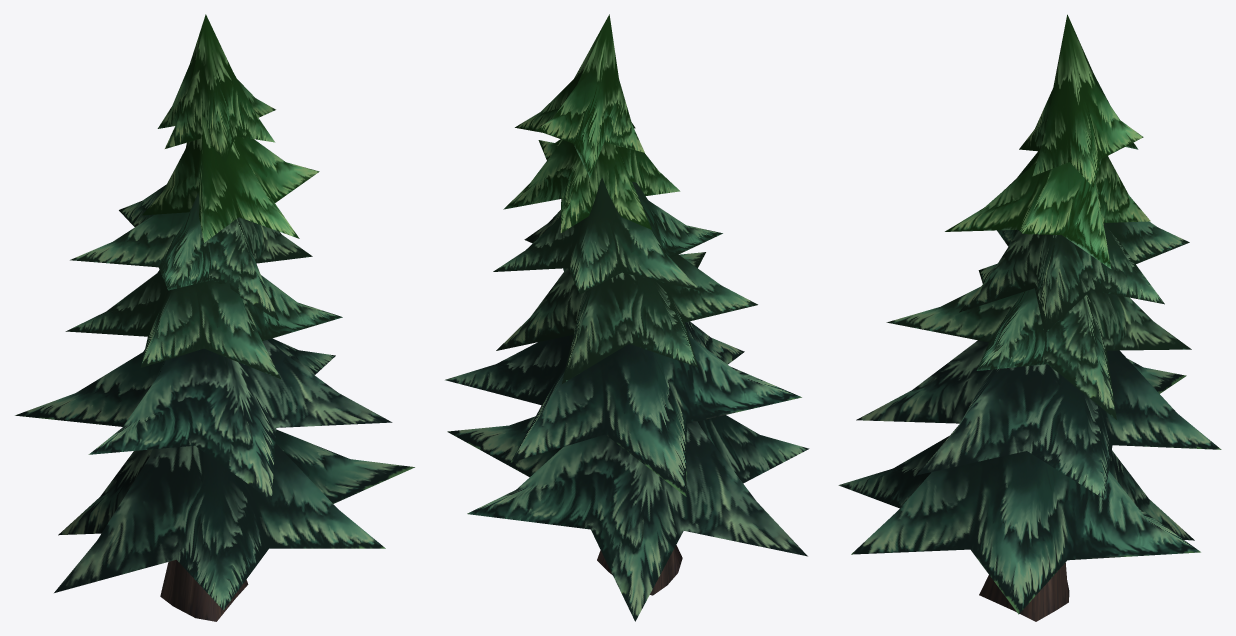
Rendered from Nspruce_3.fbx.
The picture shows the model from 3 angles, left to right: view 1: azimuth 30°, elevation 25°; view 2: azimuth 150°, elevation 25°; view 3: azimuth 270°, elevation 25°; orthographic projection. The views are drawn at different scales.
Visible parts, largest first — view 1: Nspruce_3; view 2: Nspruce_3; view 3: Nspruce_3.
Boxes of the visible parts, x1,y1,x2,y2 form: Nspruce_3: (15,14,414,621); Nspruce_3: (445,14,809,621); Nspruce_3: (838,14,1221,621).
Size of the model in its own units: 174 by 263 by 152.
